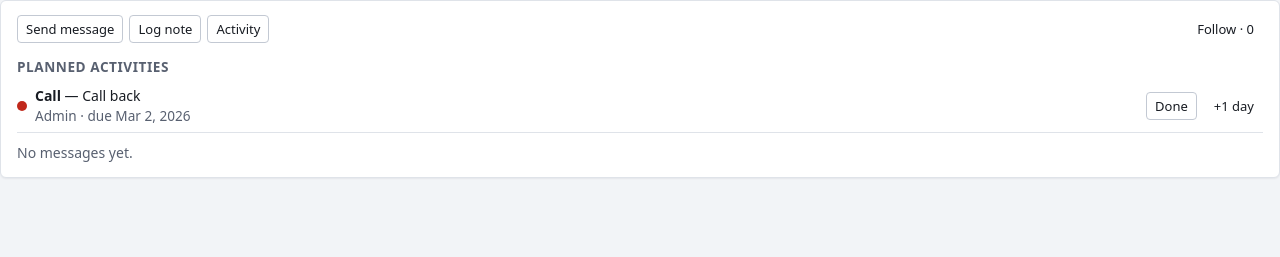
chatter › schedules and completes activities
Expected: the list item "No messages yet." is shown, top-left (17, 143), bottom-right (133, 162)
Expected: the text "— Call back" is shown, top-left (65, 86), bottom-right (140, 105)
Click the button "Activity" at (238, 29), box top-left (207, 15), bottom-right (269, 43)
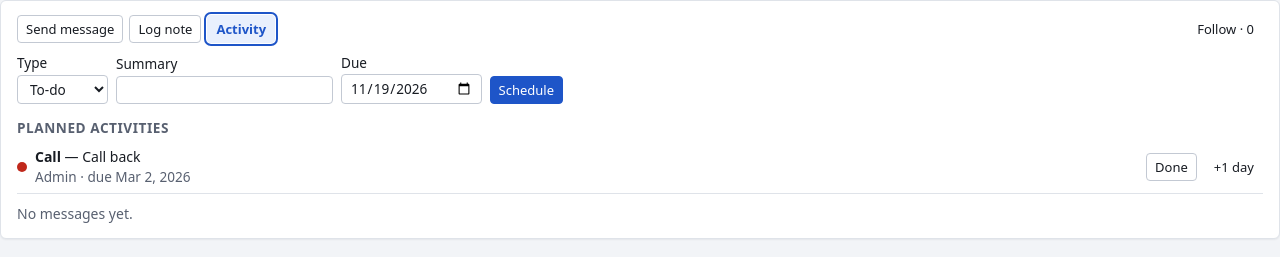
Type "Send quote" into the field labelled "Summary" at (224, 90), box top-left (116, 76), bottom-right (333, 104)
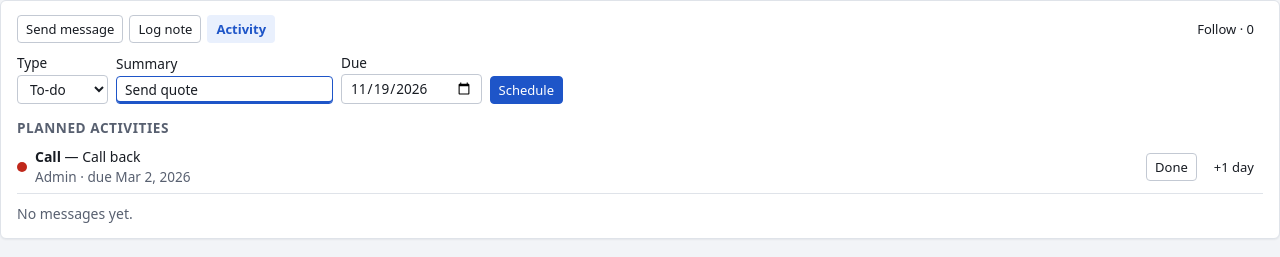
Click the button "Schedule" at (526, 90), box top-left (490, 76), bottom-right (563, 104)
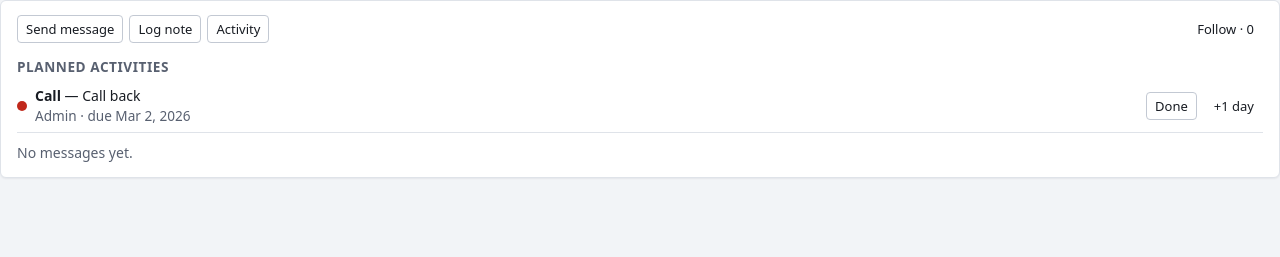
Click the button "Done" at (1171, 106), box top-left (1146, 92), bottom-right (1197, 120)
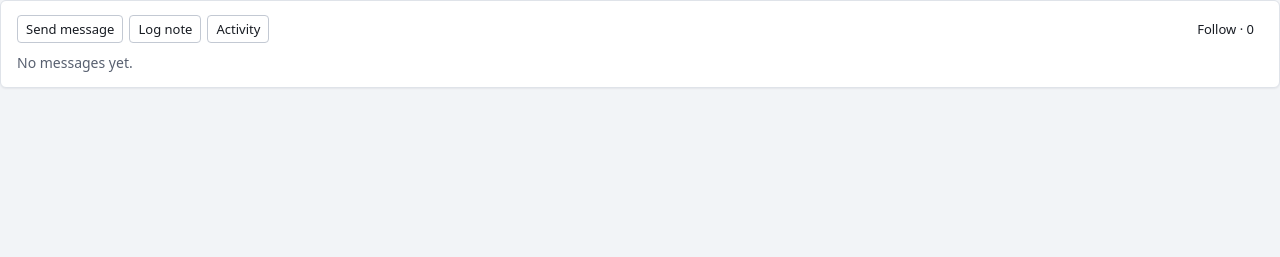
Result: the text "Call back" is gone
